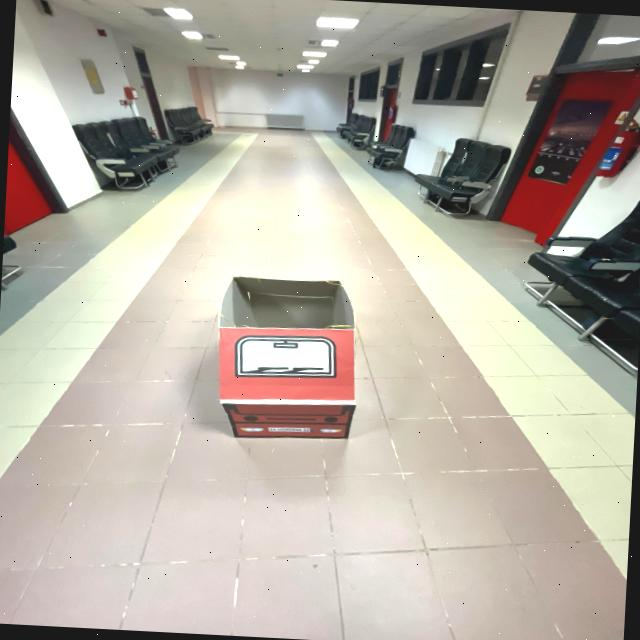red_car: (165, 258, 384, 466)
